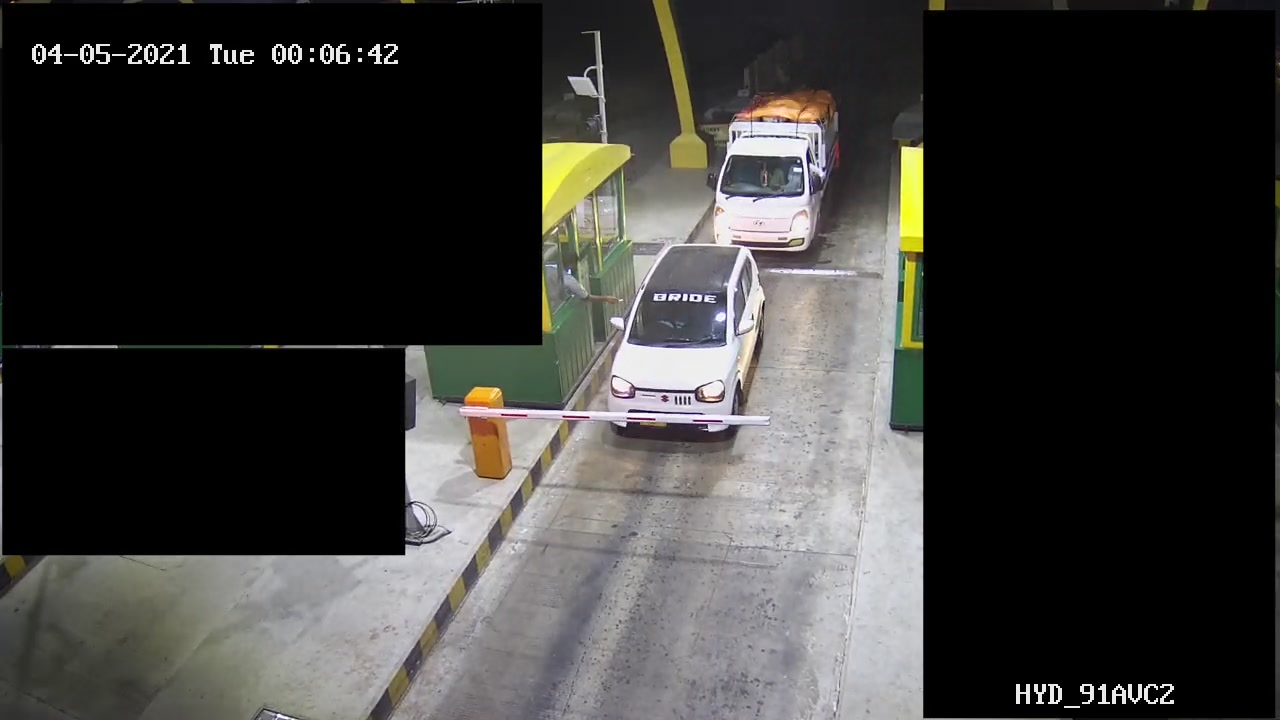F2: (708, 90, 849, 250)
